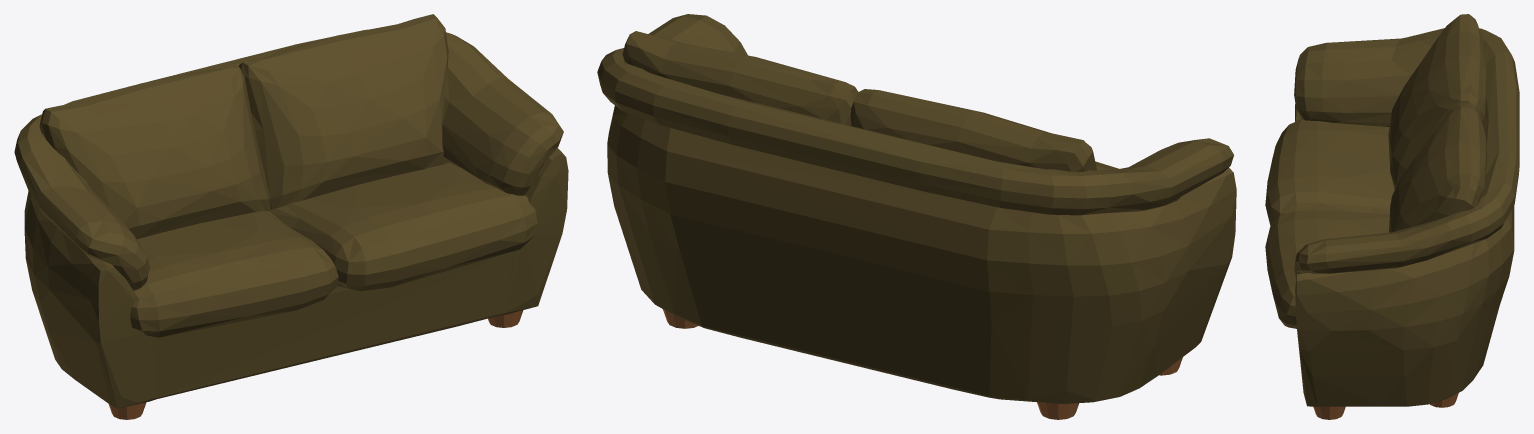
File: Couch.gltf
The picture shows the model from 3 angles, left to right: view 1: azimuth 30°, elevation 25°; view 2: azimuth 150°, elevation 25°; view 3: azimuth 270°, elevation 25°; orthographic projection. The views are drawn at different scales.
Visible parts, largest first — view 1: Node; view 2: Node; view 3: Node.
Boxes of the visible parts, <box> form: Node: <box>14,14,568,419</box>; Node: <box>597,14,1236,419</box>; Node: <box>1265,14,1519,419</box>.
Size of the model in its own units: 71.98 by 36 by 36.
